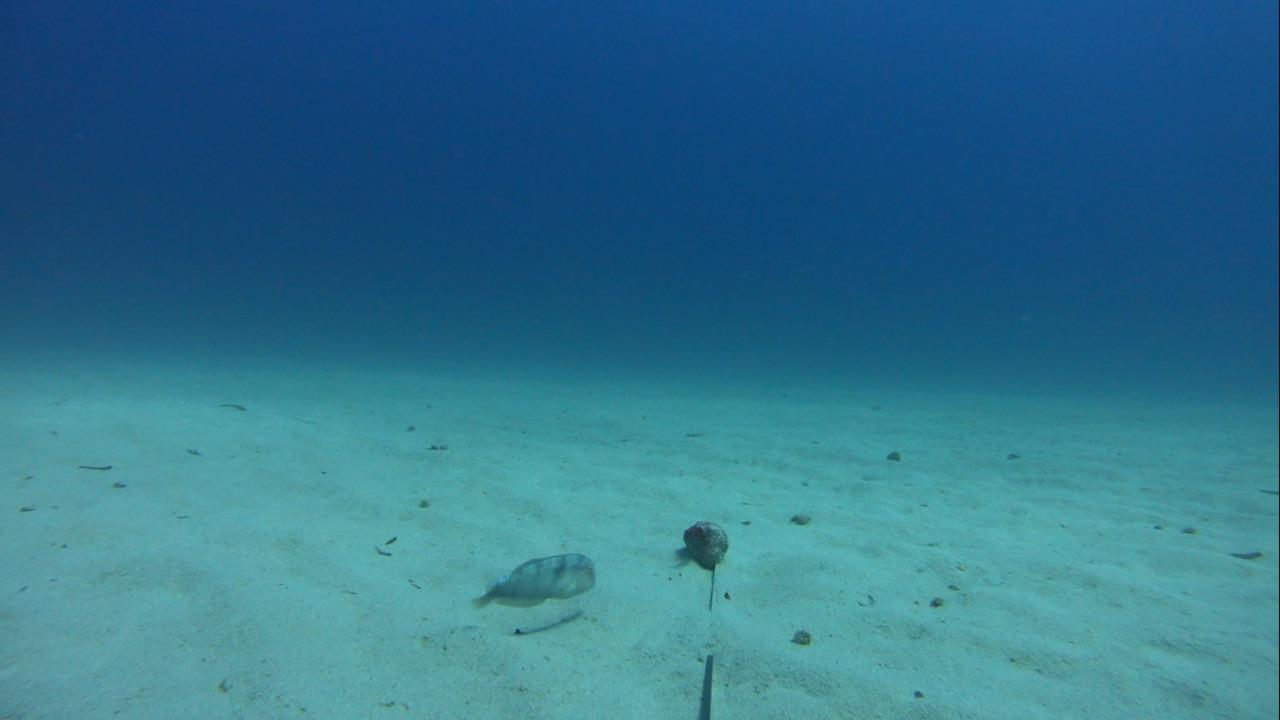raor: (472, 549, 600, 614)
